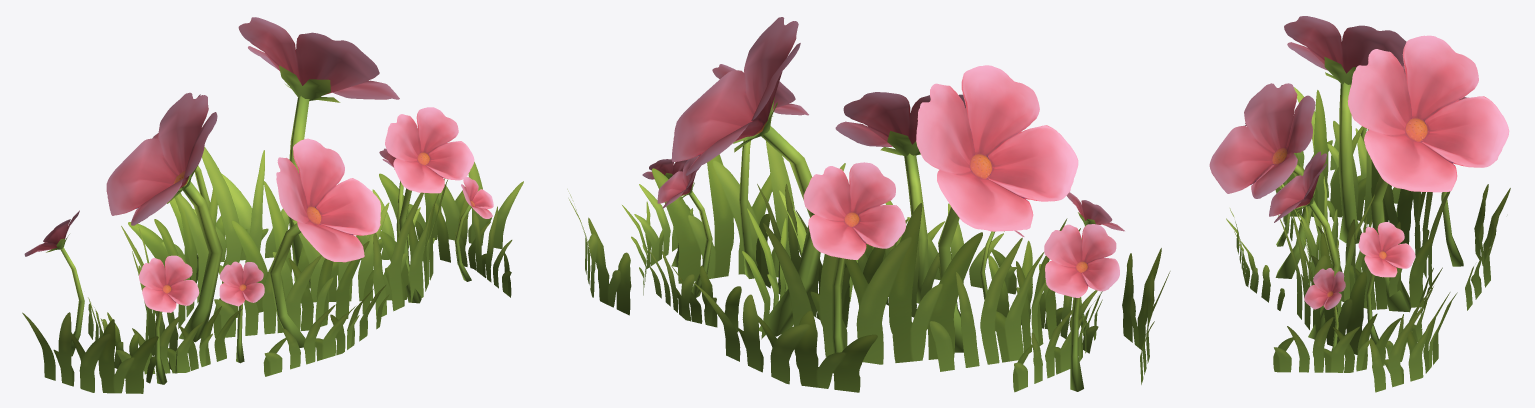
The model's file is flowers.fbx.
3 views of the same model, side by side, from view 1: azimuth 30°, elevation 25°; view 2: azimuth 150°, elevation 25°; view 3: azimuth 270°, elevation 25° (orthographic). The views are drawn at different scales.
Visible parts, largest first — view 1: Plane.012; view 2: Plane.012; view 3: Plane.012.
Part boxes in pixels (x1=…): Plane.012: x1=22, y1=17, x2=523, y2=393; Plane.012: x1=567, y1=17, x2=1170, y2=392; Plane.012: x1=1209, y1=16, x2=1510, y2=392.
Bounding box in the file's own units: 10.91 × 5.35 × 5.87.
